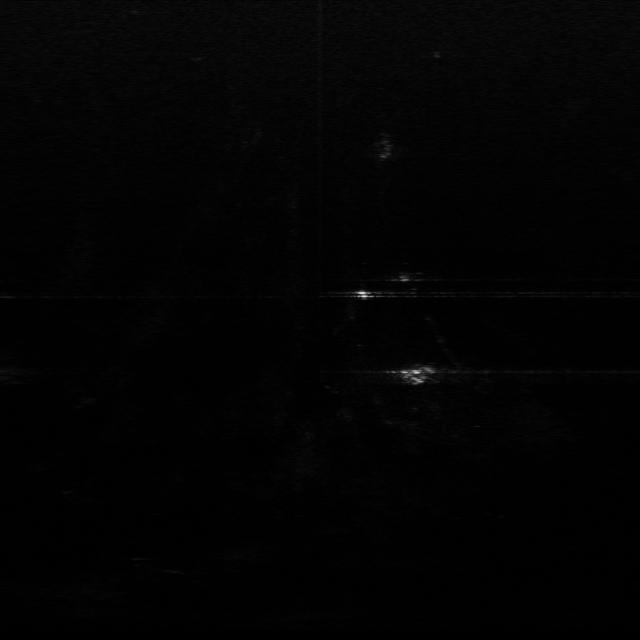rov: (393, 361, 441, 390)
